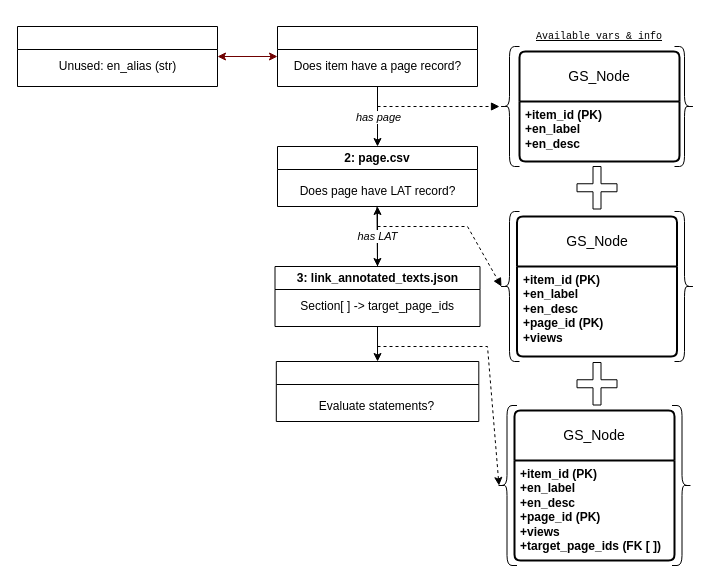
This 712x583 diagram has some shape labels left out. Each missing label, with the box of its shape:
1: item.csv: (276, 26, 478, 86)
1: item_aliases.csv: (16, 26, 218, 86)
4: Begins Edge building?: (275, 360, 479, 422)
